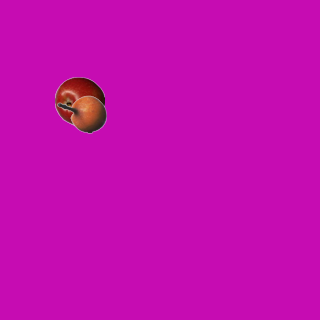Apple Braeburn: (54, 76, 104, 126)
Granadilla: (56, 89, 106, 139)
